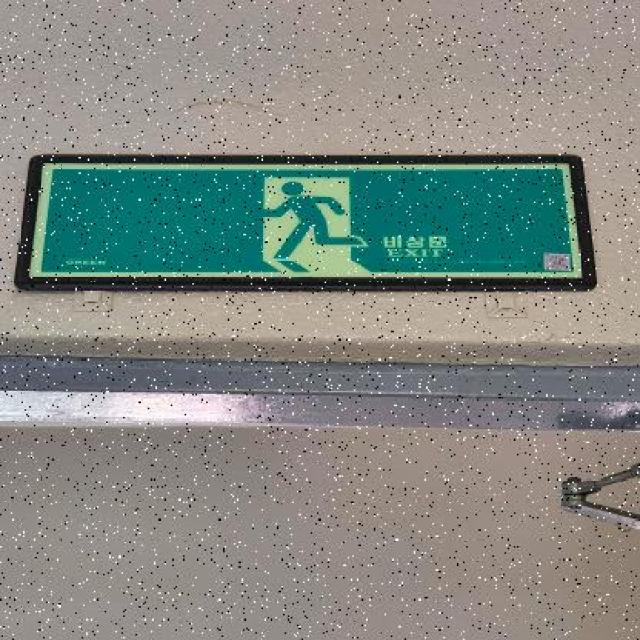emergency_exit: (15, 152, 598, 293)
